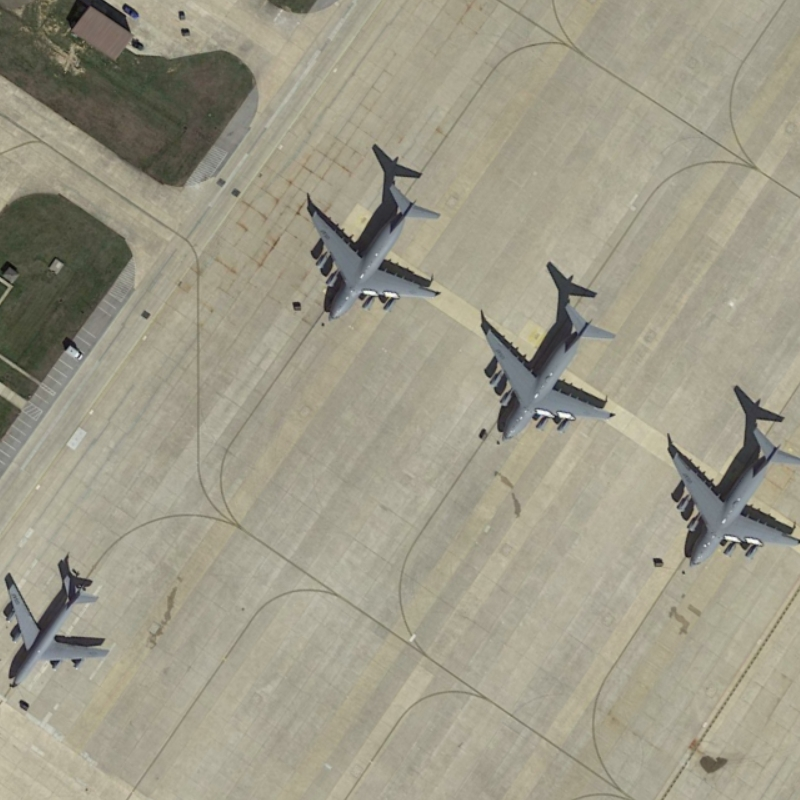A14: (4, 561, 115, 691)
A3: (476, 296, 621, 448), (302, 178, 446, 326), (664, 421, 800, 572)
